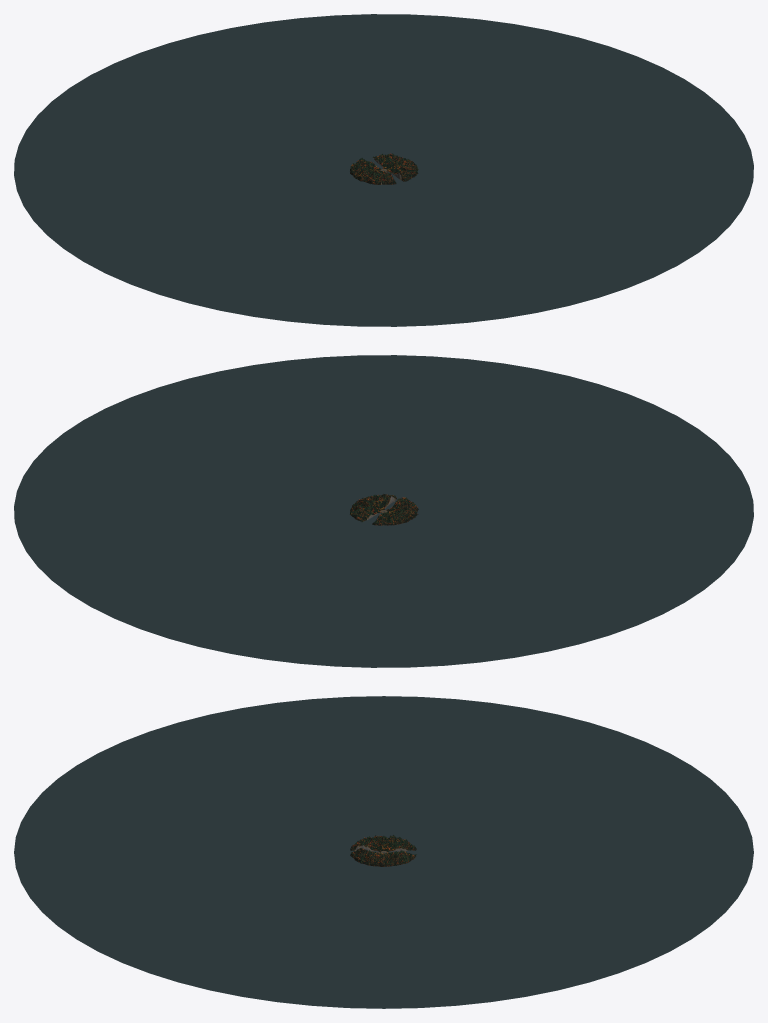
File: backdrop_near_c30_autumn.glb
3 renders of one model, top to bottom at view 1: azimuth 30°, elevation 25°; view 2: azimuth 150°, elevation 25°; view 3: azimuth 270°, elevation 25°, orthographic.
Parts seen in each view (by area): view 1: water_S, water_N, water_W, water_E; view 2: water_N, water_S, water_W, water_E; view 3: water_E, water_N, water_S, water_W.
Boxes of the visible parts, bbox=[...] form: water_S: bbox=[288, 171, 741, 326]; water_N: bbox=[26, 14, 479, 168]; water_W: bbox=[14, 130, 383, 321]; water_E: bbox=[384, 19, 753, 210]; water_N: bbox=[26, 512, 479, 667]; water_S: bbox=[288, 355, 741, 509]; water_W: bbox=[384, 471, 753, 662]; water_E: bbox=[14, 360, 383, 551]; water_E: bbox=[123, 863, 644, 1008]; water_N: bbox=[384, 742, 753, 962]; water_S: bbox=[14, 742, 383, 962]; water_W: bbox=[123, 696, 644, 841].
Bounding box in the file's own units: 6000 × 173 × 6000.
5 materials, 3 textured.
